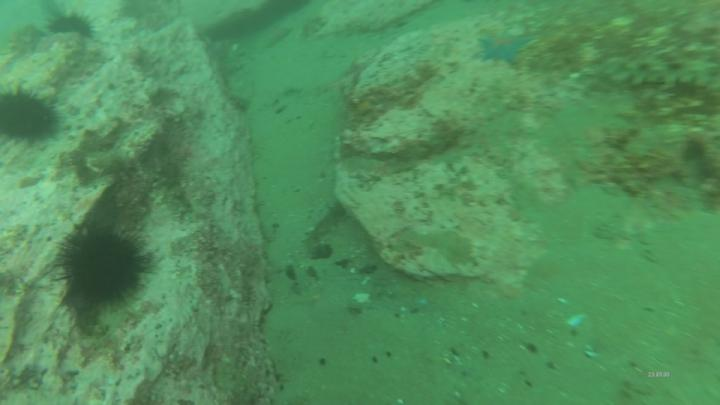echinus: (40, 212, 164, 328), (1, 83, 68, 143), (45, 9, 101, 42)
holothurian: (594, 56, 716, 93)
starfish: (476, 26, 535, 68)
